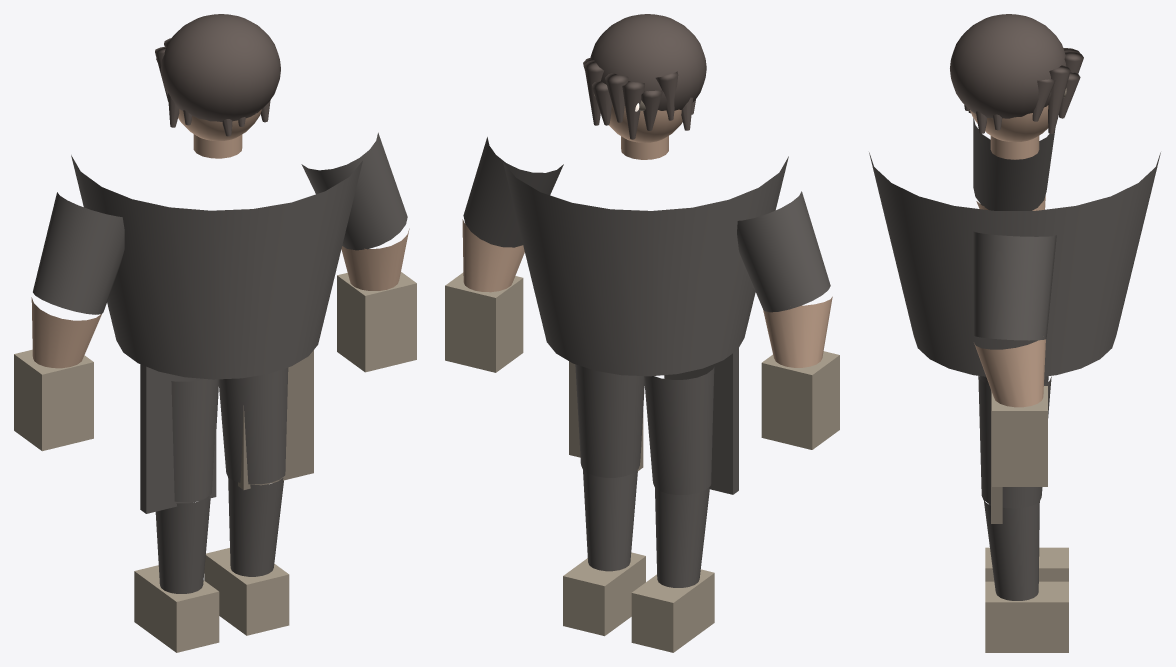
The model's file is jinhwon-procedural-v1.glb.
The picture shows the model from 3 angles, left to right: view 1: azimuth 30°, elevation 25°; view 2: azimuth 150°, elevation 25°; view 3: azimuth 270°, elevation 25°; orthographic projection. The views are drawn at different scales.
Visible parts, largest first — view 1: Outfit_Torso, Hair_Cap, Body_UpperArm_L, Body_Thigh_R, Weapon_Gauntlet_L, Weapon_Gauntlet_R, Body_UpperArm_R, Outfit_CoatTail_L, Body_Thigh_L, Outfit_Boot_L, Outfit_Boot_R, Body_Shin_R (+6 smaller); view 2: Outfit_Torso, Body_Thigh_L, Body_UpperArm_L, Hair_Cap, Body_Thigh_R, Weapon_Gauntlet_L, Weapon_Gauntlet_R, Outfit_Boot_L, Outfit_Boot_R, Body_UpperArm_R, Body_Shin_R, Body_Shin_L (+11 smaller); view 3: Outfit_Torso, Hair_Cap, Body_UpperArm_R, Outfit_Boot_R, Weapon_Gauntlet_R, Body_UpperArm_L, Body_Shin_R, Body_Forearm_R, Body_Thigh_R, Body_Head, Outfit_Boot_L, Body_Neck (+3 smaller).
Part boxes in pixels (x1=…): Outfit_Torso: x1=71, y1=155, x2=362, y2=379; Hair_Cap: x1=161, y1=14, x2=280, y2=121; Body_UpperArm_L: x1=33, y1=192, x2=124, y2=314; Body_Thigh_R: x1=219, y1=367, x2=288, y2=484; Weapon_Gauntlet_L: x1=14, y1=349, x2=93, y2=451; Weapon_Gauntlet_R: x1=337, y1=272, x2=416, y2=372; Body_UpperArm_R: x1=301, y1=132, x2=407, y2=250; Outfit_CoatTail_L: x1=140, y1=364, x2=216, y2=513; Body_Thigh_L: x1=171, y1=379, x2=219, y2=501; Outfit_Boot_L: x1=134, y1=565, x2=219, y2=652; Outfit_Boot_R: x1=204, y1=548, x2=289, y2=635; Body_Shin_R: x1=228, y1=477, x2=283, y2=576; Outfit_Torso: x1=503, y1=156, x2=788, y2=376; Body_Thigh_L: x1=644, y1=367, x2=714, y2=494; Body_UpperArm_L: x1=737, y1=191, x2=830, y2=312; Hair_Cap: x1=590, y1=14, x2=706, y2=110; Body_Thigh_R: x1=575, y1=364, x2=644, y2=477; Weapon_Gauntlet_L: x1=761, y1=351, x2=839, y2=449; Weapon_Gauntlet_R: x1=445, y1=272, x2=523, y2=372; Outfit_Boot_L: x1=631, y1=569, x2=714, y2=652; Outfit_Boot_R: x1=563, y1=552, x2=645, y2=636; Body_UpperArm_R: x1=463, y1=137, x2=563, y2=247; Body_Shin_R: x1=583, y1=470, x2=637, y2=571; Body_Shin_L: x1=655, y1=487, x2=709, y2=587; Outfit_Torso: x1=869, y1=152, x2=1160, y2=376; Hair_Cap: x1=950, y1=14, x2=1066, y2=118; Body_UpperArm_R: x1=973, y1=231, x2=1056, y2=340; Outfit_Boot_R: x1=985, y1=581, x2=1068, y2=652; Weapon_Gauntlet_R: x1=992, y1=386, x2=1047, y2=486; Body_UpperArm_L: x1=973, y1=118, x2=1055, y2=210; Body_Shin_R: x1=984, y1=500, x2=1039, y2=600; Body_Forearm_R: x1=974, y1=339, x2=1045, y2=407; Body_Thigh_R: x1=978, y1=376, x2=1051, y2=508; Body_Head: x1=970, y1=105, x2=1048, y2=142; Outfit_Boot_L: x1=985, y1=547, x2=1068, y2=581; Body_Neck: x1=990, y1=136, x2=1039, y2=159.
Bounding box in the file's own units: 1.3 × 2.02 × 0.8872.
